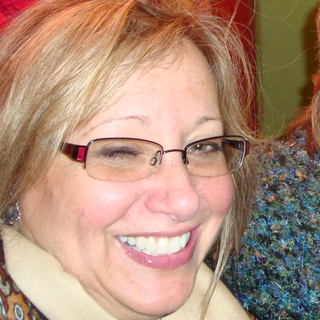eye: (92, 142, 145, 169), (185, 136, 224, 161)
